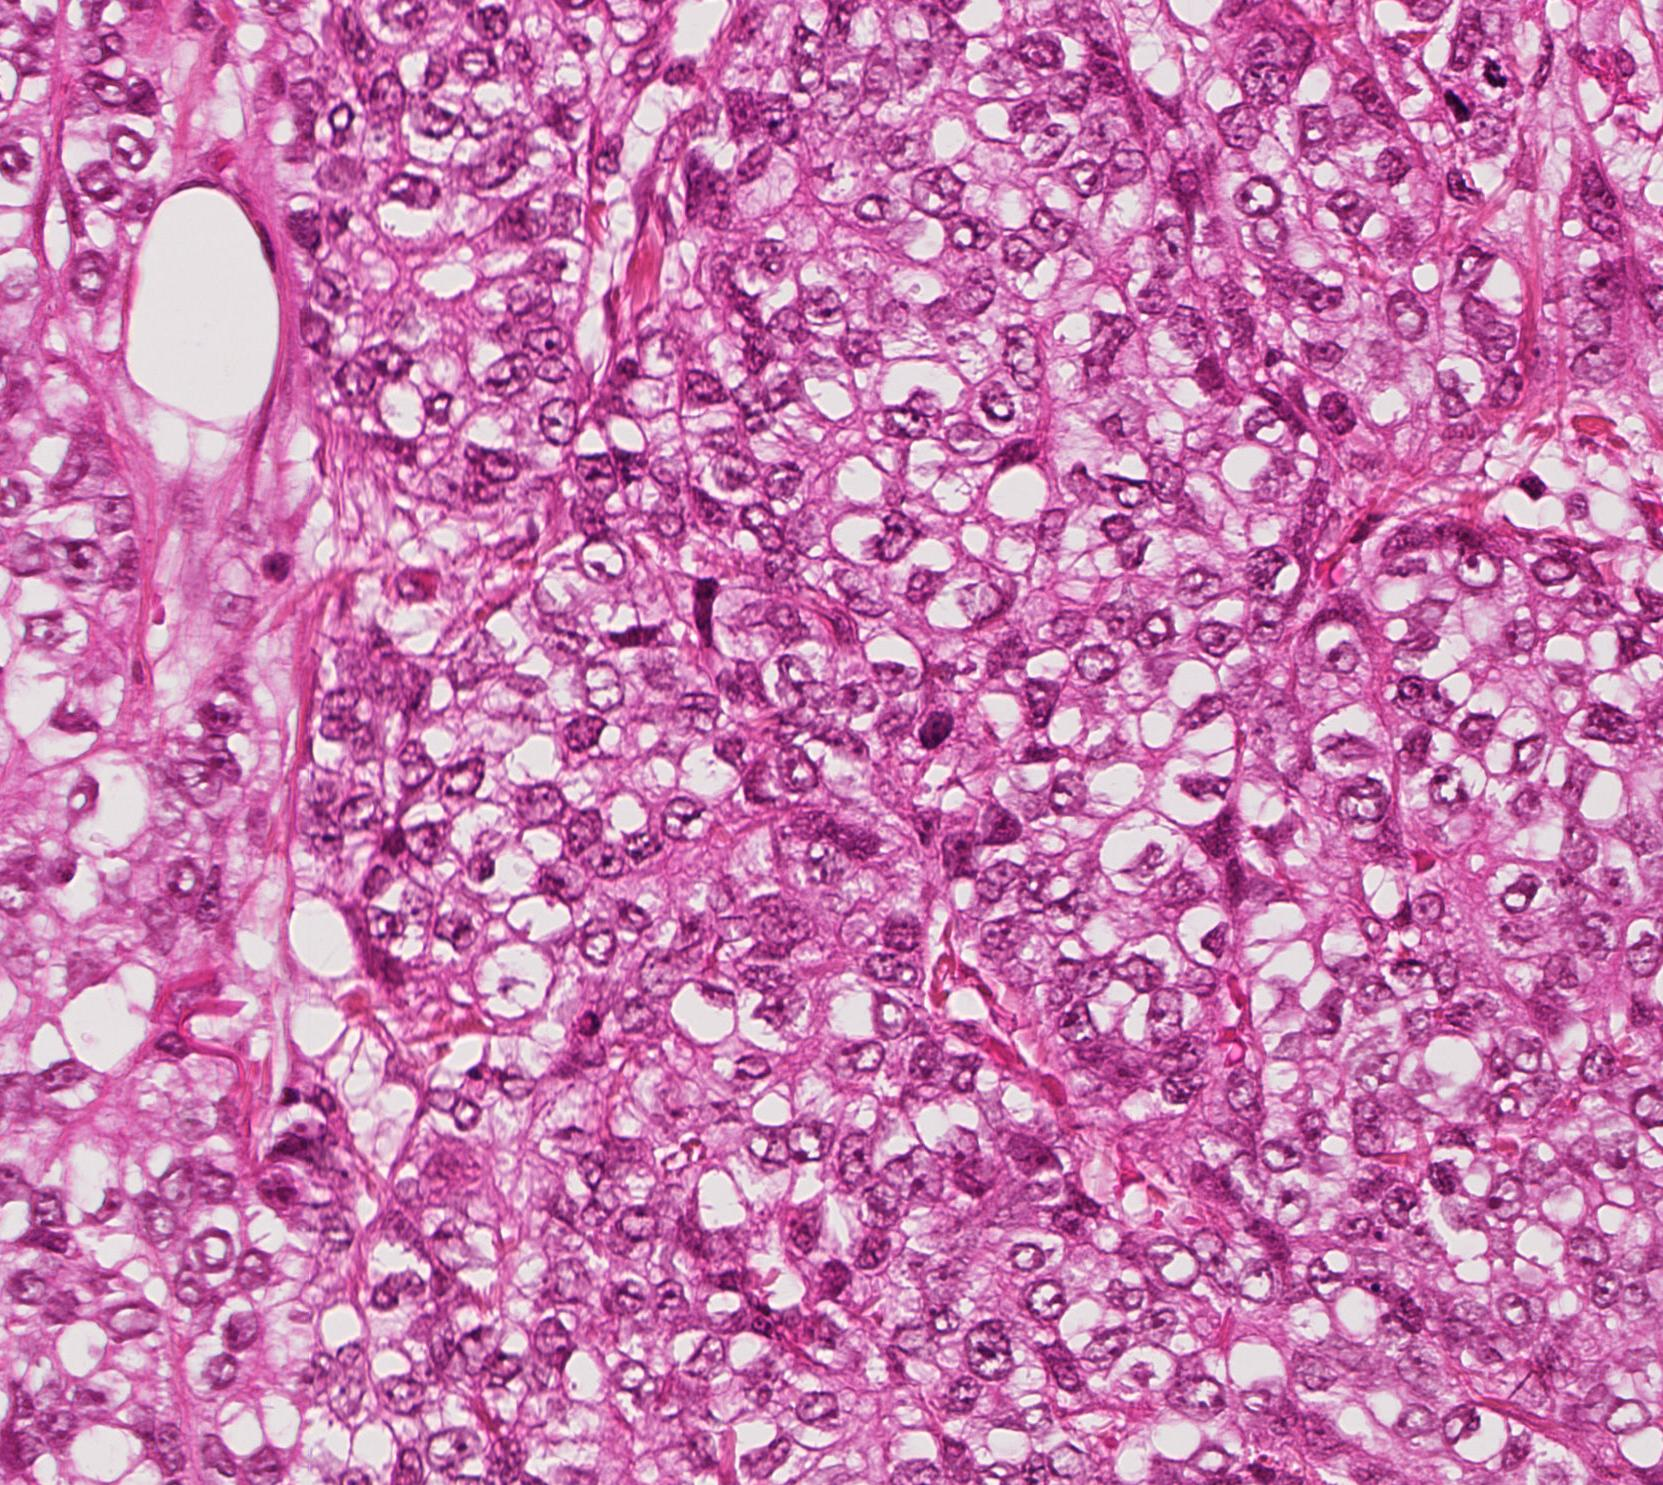mitosis: (1464, 46, 1524, 106), (1426, 76, 1487, 136)
